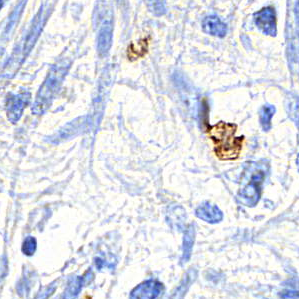Lymphocyte: (206, 118, 247, 162)
